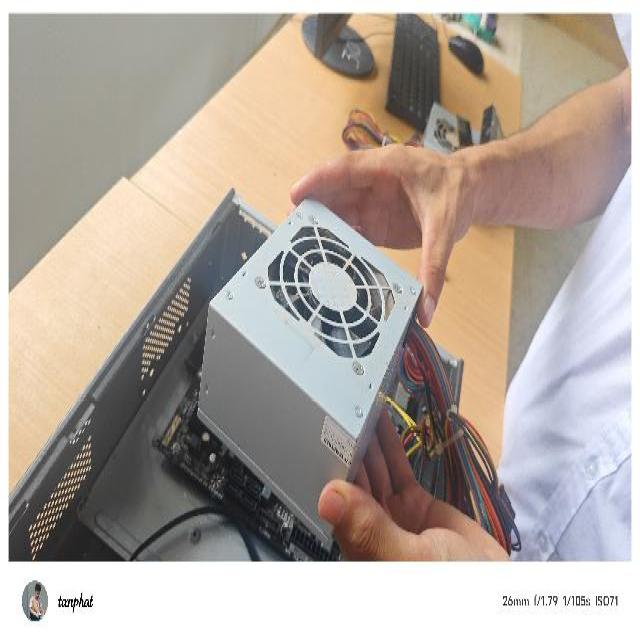PSU: (195, 191, 428, 548)
